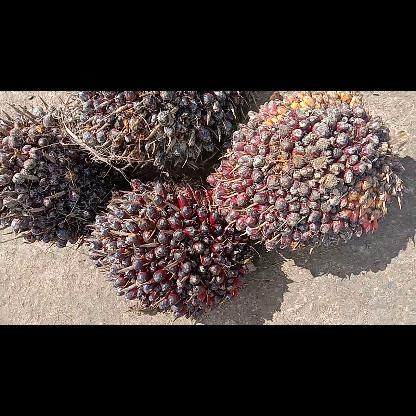Kurang masak: (210, 92, 410, 256), (82, 179, 266, 317), (0, 102, 119, 250), (66, 92, 256, 173)
